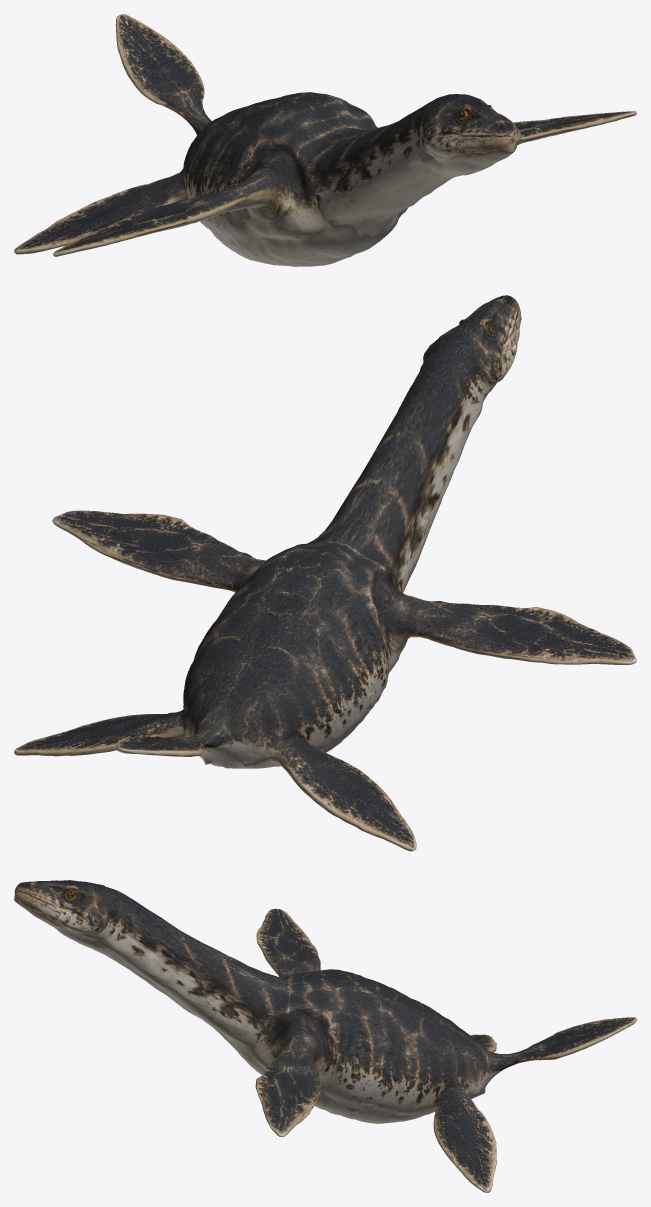
File: rhaeticosaurus.preview.glb
3 renders of one model, top to bottom at view 1: azimuth 30°, elevation 25°; view 2: azimuth 150°, elevation 25°; view 3: azimuth 270°, elevation 25°, orthographic. The views are drawn at different scales.
Parts seen in each view (by area): view 1: tripo_node_fc7ac57e-a434-417d-9c85-cd53116e6664.001; view 2: tripo_node_fc7ac57e-a434-417d-9c85-cd53116e6664.001; view 3: tripo_node_fc7ac57e-a434-417d-9c85-cd53116e6664.001.
Boxes of the visible parts, <box> form: tripo_node_fc7ac57e-a434-417d-9c85-cd53116e6664.001: <box>14,14,636,266</box>; tripo_node_fc7ac57e-a434-417d-9c85-cd53116e6664.001: <box>14,295,636,851</box>; tripo_node_fc7ac57e-a434-417d-9c85-cd53116e6664.001: <box>14,880,636,1192</box>.
Size of the model in its own units: 1 by 0.4837 by 1.16.
Materials: 1 (1 with a texture image).
